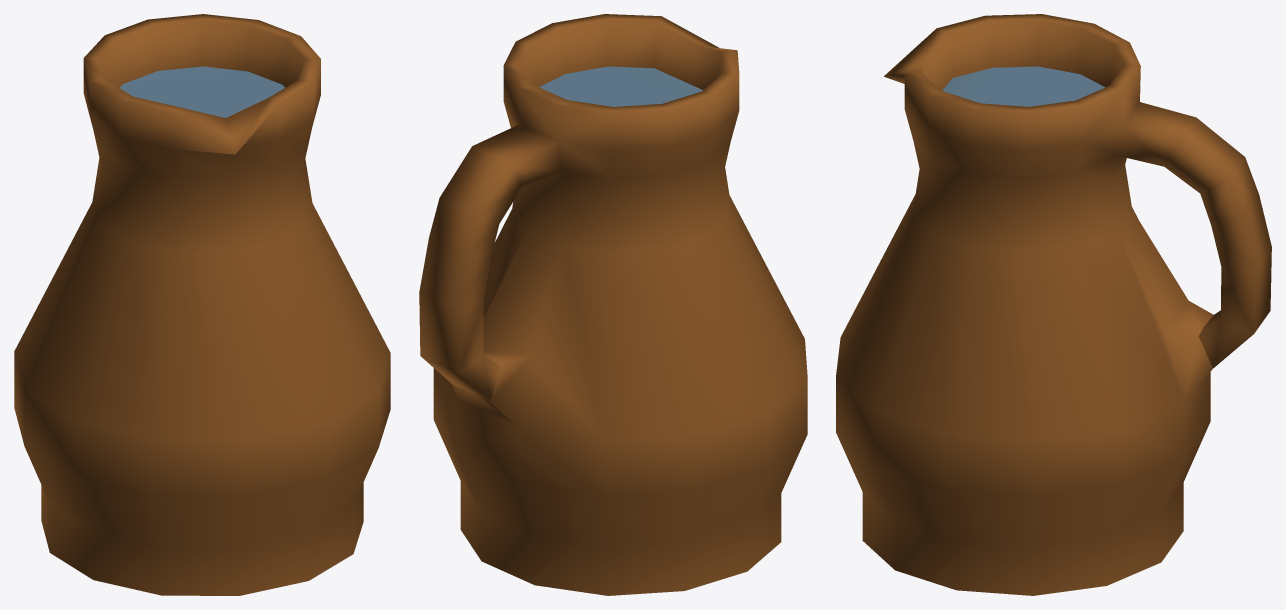
The model's file is SM_Jug.fbx.
The picture shows the model from 3 angles, left to right: view 1: azimuth 30°, elevation 25°; view 2: azimuth 150°, elevation 25°; view 3: azimuth 270°, elevation 25°; orthographic projection.
Visible parts, largest first — view 1: SM_Jug; view 2: SM_Jug; view 3: SM_Jug.
Boxes of the visible parts, <box> form: SM_Jug: <box>14,14,390,595</box>; SM_Jug: <box>419,14,807,595</box>; SM_Jug: <box>836,14,1271,595</box>.
Size of the model in its own units: 0.305 by 0.4166 by 0.3545.
